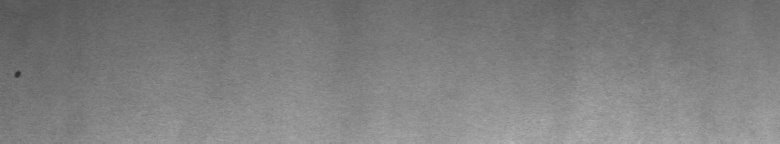fi: (7, 64, 24, 84)
